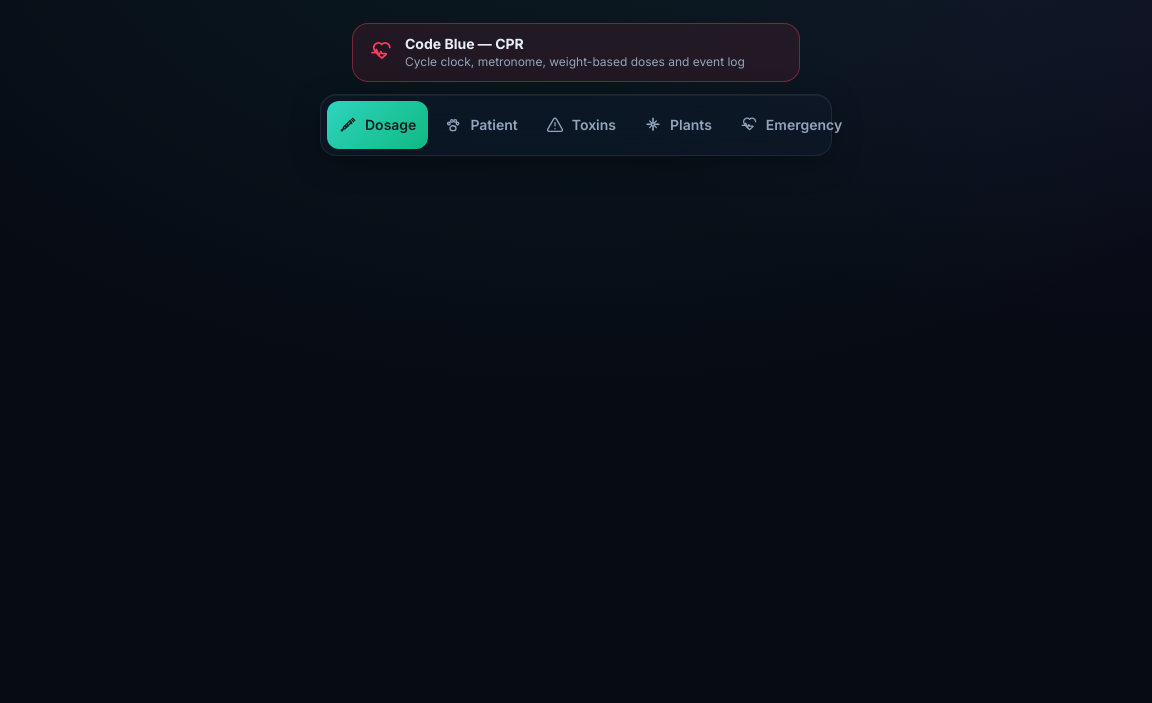
Test: Tools — Code Blue entry › opens Code Blue from the emergency button and updates the link
Click the button "Code Blue".
click(576, 52)  # box [352,23,800,82]
(page scrolled)
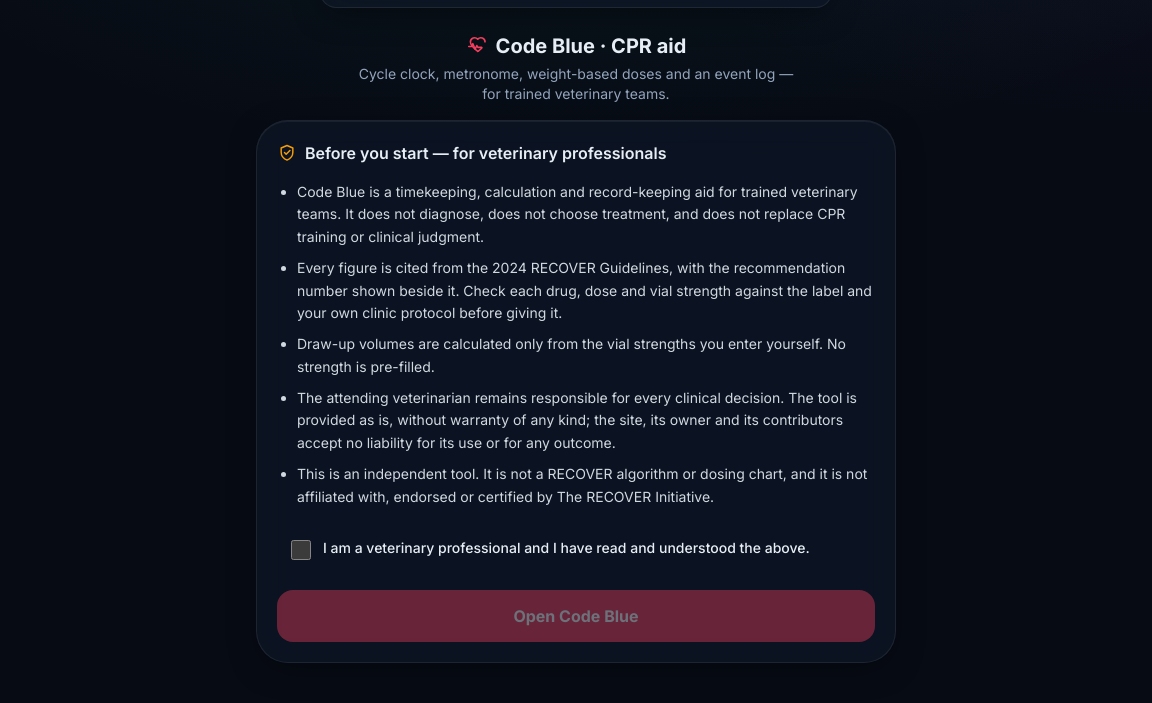
Result: the button "Open Code Blue" is shown at [277,590,875,642]
